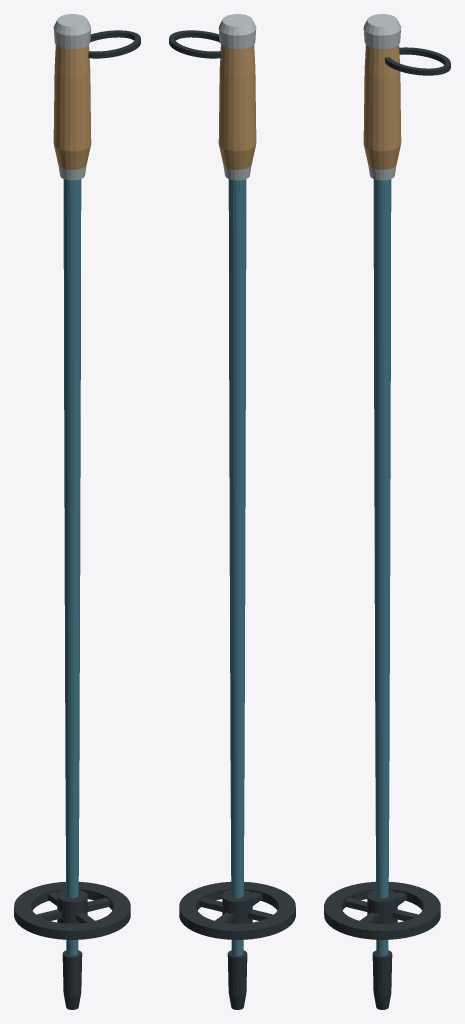
3 views of the same model, side by side, from view 1: azimuth 30°, elevation 25°; view 2: azimuth 150°, elevation 25°; view 3: azimuth 330°, elevation 25° (orthographic).
Visible parts, largest first — view 1: WholeLongTaperedShaft, WholeSwollenPalmGrip, WholeWideBasketAnnulus, WholeGripEndCap, WholeFiniteBluntTip, WholeRootedOvalWristLoop, WholeBasketCentralHub; view 2: WholeLongTaperedShaft, WholeSwollenPalmGrip, WholeWideBasketAnnulus, WholeGripEndCap, WholeFiniteBluntTip, WholeRootedOvalWristLoop, WholeBasketCentralHub; view 3: WholeLongTaperedShaft, WholeSwollenPalmGrip, WholeWideBasketAnnulus, WholeGripEndCap, WholeFiniteBluntTip, WholeRootedOvalWristLoop, WholeBasketCentralHub.
Part boxes in pixels (<box>): WholeLongTaperedShaft: <box>63,179,81,955</box>; WholeSwollenPalmGrip: <box>53,44,91,169</box>; WholeWideBasketAnnulus: <box>14,881,130,939</box>; WholeGripEndCap: <box>53,14,91,48</box>; WholeFiniteBluntTip: <box>62,950,82,1009</box>; WholeRootedOvalWristLoop: <box>88,30,140,58</box>; WholeBasketCentralHub: <box>57,890,87,923</box>; WholeLongTaperedShaft: <box>228,179,246,955</box>; WholeSwollenPalmGrip: <box>218,44,256,169</box>; WholeWideBasketAnnulus: <box>179,881,295,939</box>; WholeGripEndCap: <box>218,14,256,48</box>; WholeFiniteBluntTip: <box>227,950,247,1009</box>; WholeRootedOvalWristLoop: <box>169,30,221,58</box>; WholeBasketCentralHub: <box>222,890,252,923</box>; WholeLongTaperedShaft: <box>373,179,391,955</box>; WholeSwollenPalmGrip: <box>363,45,401,169</box>; WholeWideBasketAnnulus: <box>324,881,440,939</box>; WholeGripEndCap: <box>363,14,401,48</box>; WholeFiniteBluntTip: <box>372,950,392,1009</box>; WholeRootedOvalWristLoop: <box>384,47,450,75</box>; WholeBasketCentralHub: <box>367,890,397,923</box>.
Size of the model in its own units: 0.15 by 1.21 by 0.13.
